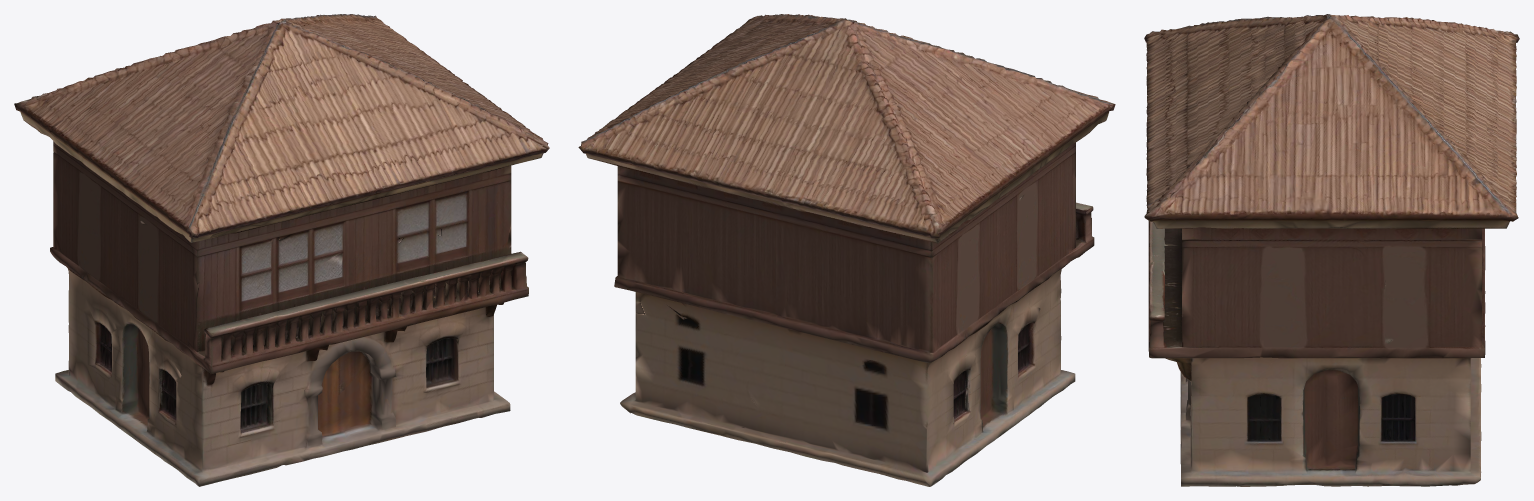
The model's file is Meshy_AI_Casa_de_Madera_0501062220_texture.fbx.
3 renders of one model, left to right at view 1: azimuth 30°, elevation 25°; view 2: azimuth 150°, elevation 25°; view 3: azimuth 270°, elevation 25°, orthographic. The views are drawn at different scales.
Visible parts, largest first — view 1: Mesh_0; view 2: Mesh_0; view 3: Mesh_0.
Part boxes in pixels (left/top/right/bottom): Mesh_0: left=14, top=14, right=549, bottom=486; Mesh_0: left=578, top=14, right=1115, bottom=486; Mesh_0: left=1144, top=14, right=1519, bottom=486.
Bounding box in the file's own units: 191 × 191 × 166.
1 material, 1 textured.
